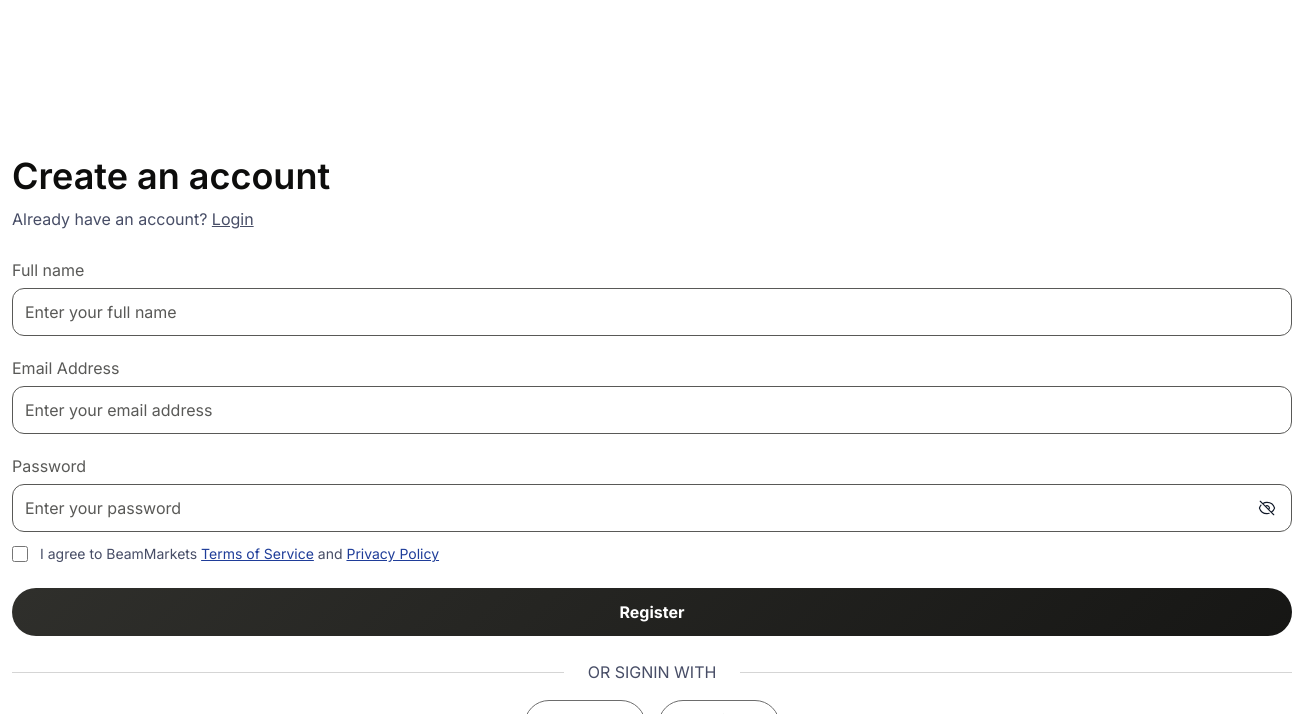
Test: Register Page Tests › Shows error message on email exists
The width and height of the screenshot is (1304, 714).
Step 1. Type "wrong@example.com" into the field with placeholder "Enter your email address" → (652, 410), box x1=12 y1=386 x2=1292 y2=434
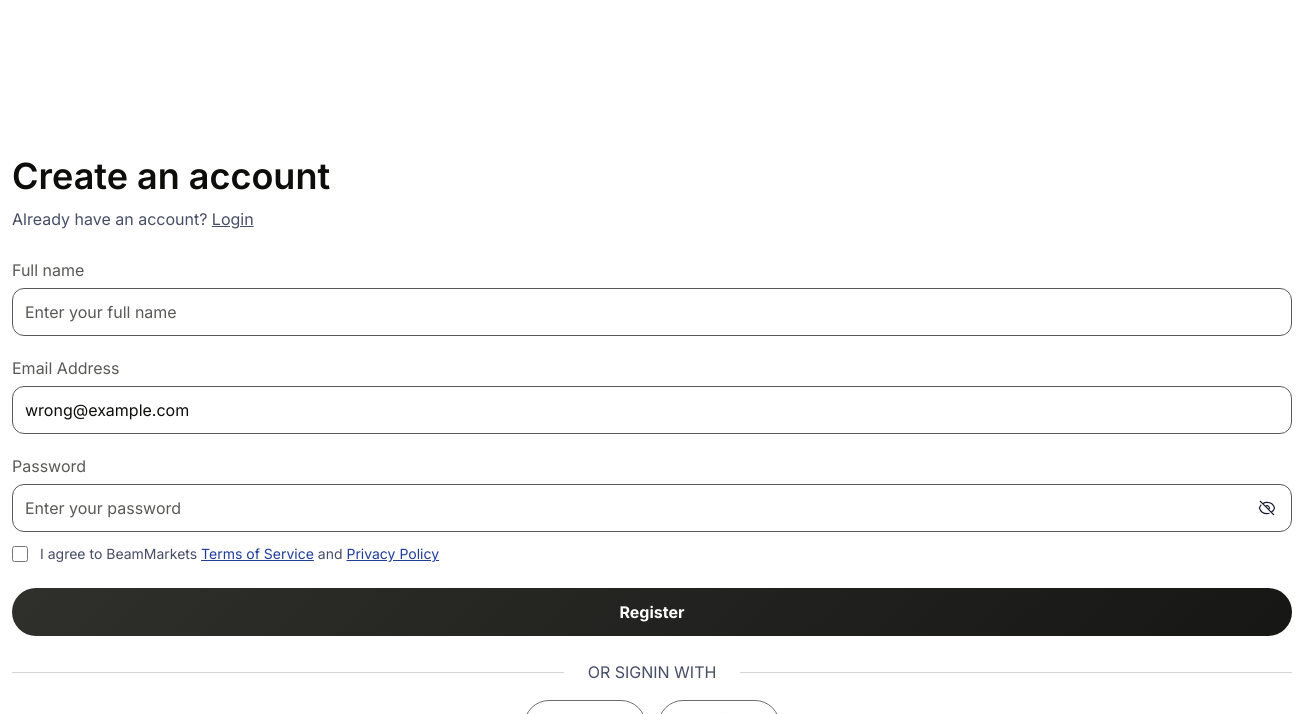
Step 2. Type "Password123#" into the password field with placeholder "Enter your password" → (652, 508), box x1=12 y1=484 x2=1292 y2=532
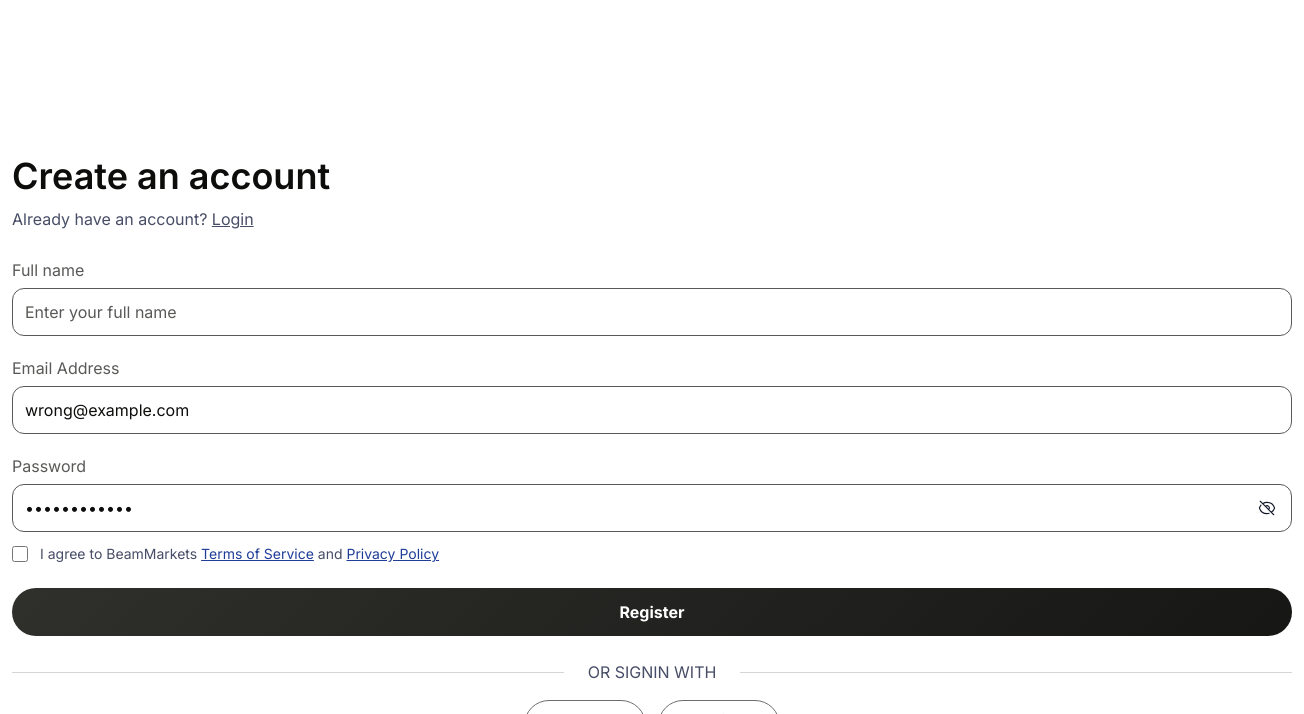
Step 3. Type "Beam user" into the field with placeholder "Enter your full name" → (652, 312), box x1=12 y1=288 x2=1292 y2=336
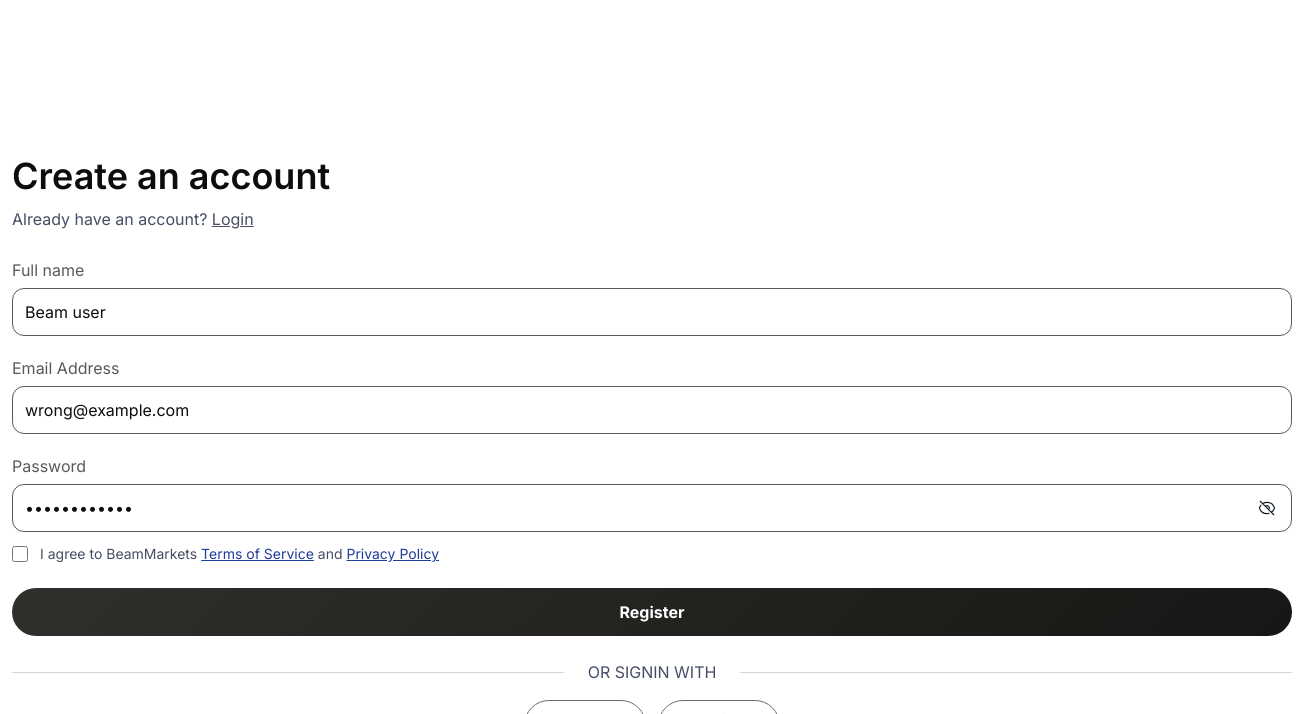
Step 4. Click the checkbox → (20, 554), box x1=12 y1=546 x2=28 y2=562
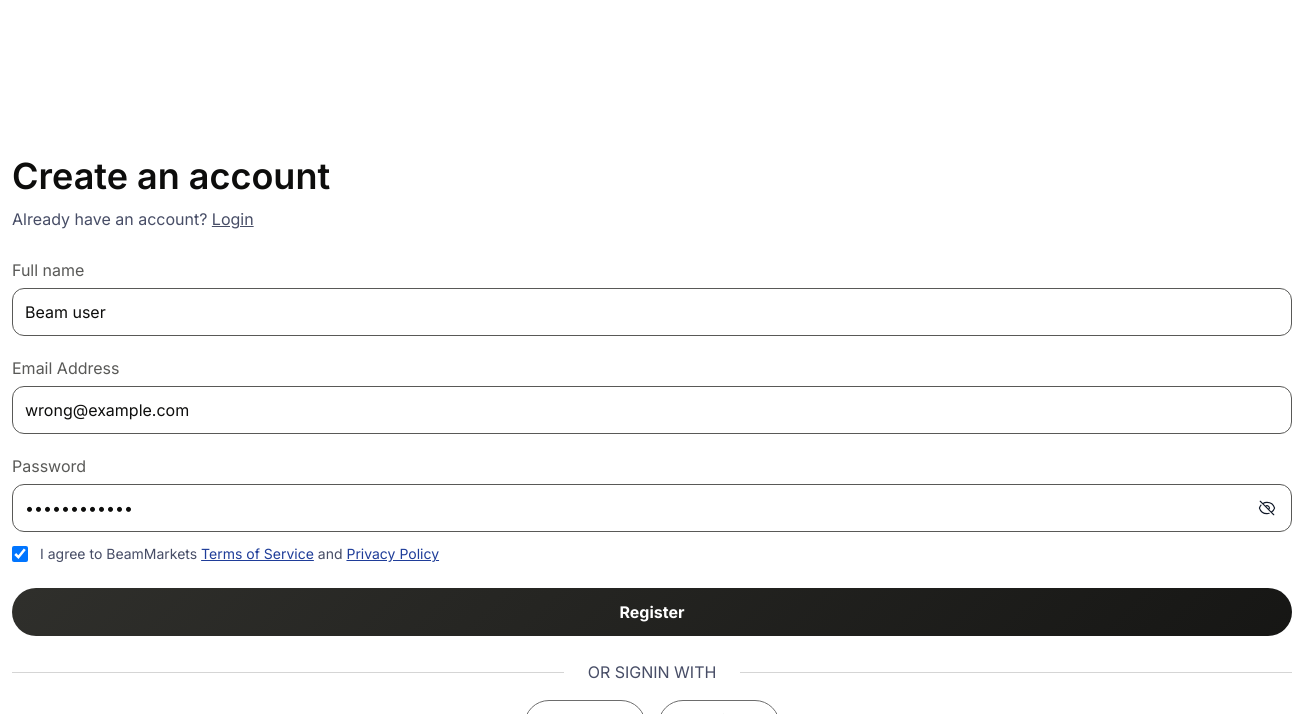
Step 5. Click the button "Register" → (652, 612), box x1=12 y1=588 x2=1292 y2=636
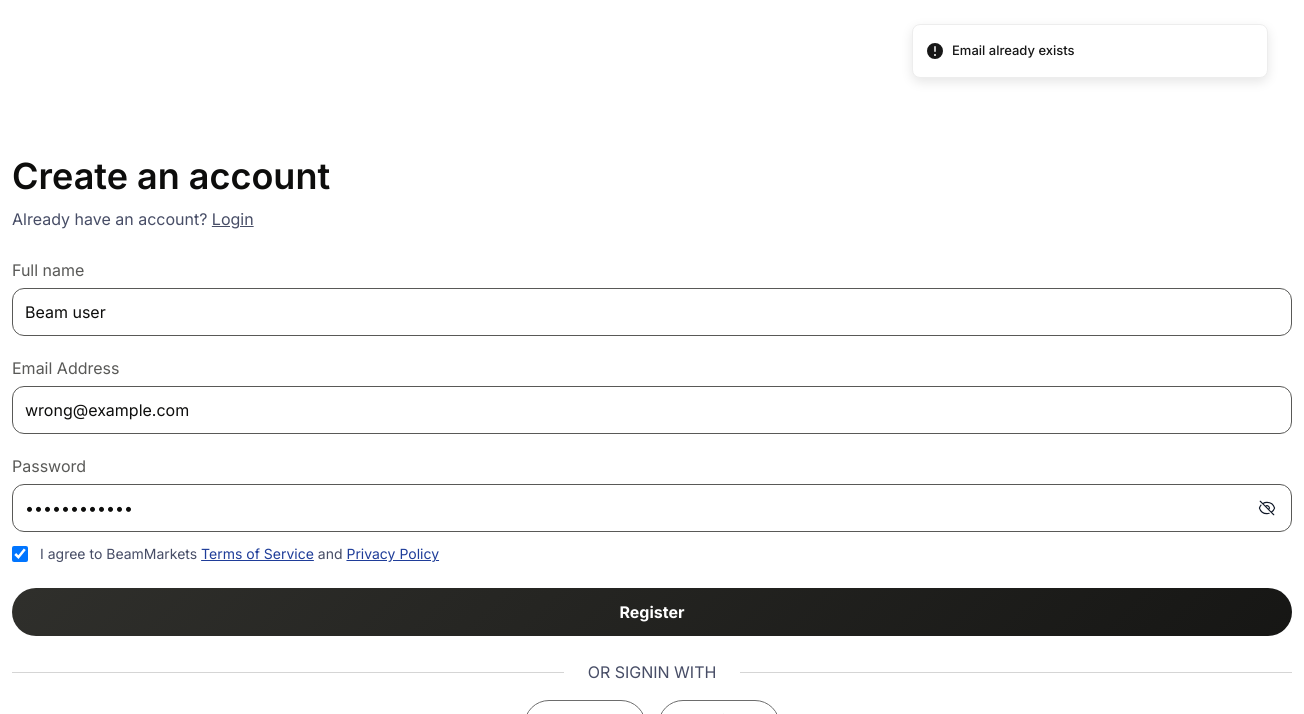
Expected: the text "Email already exists" is shown, x1=952 y1=41 x2=1075 y2=60
